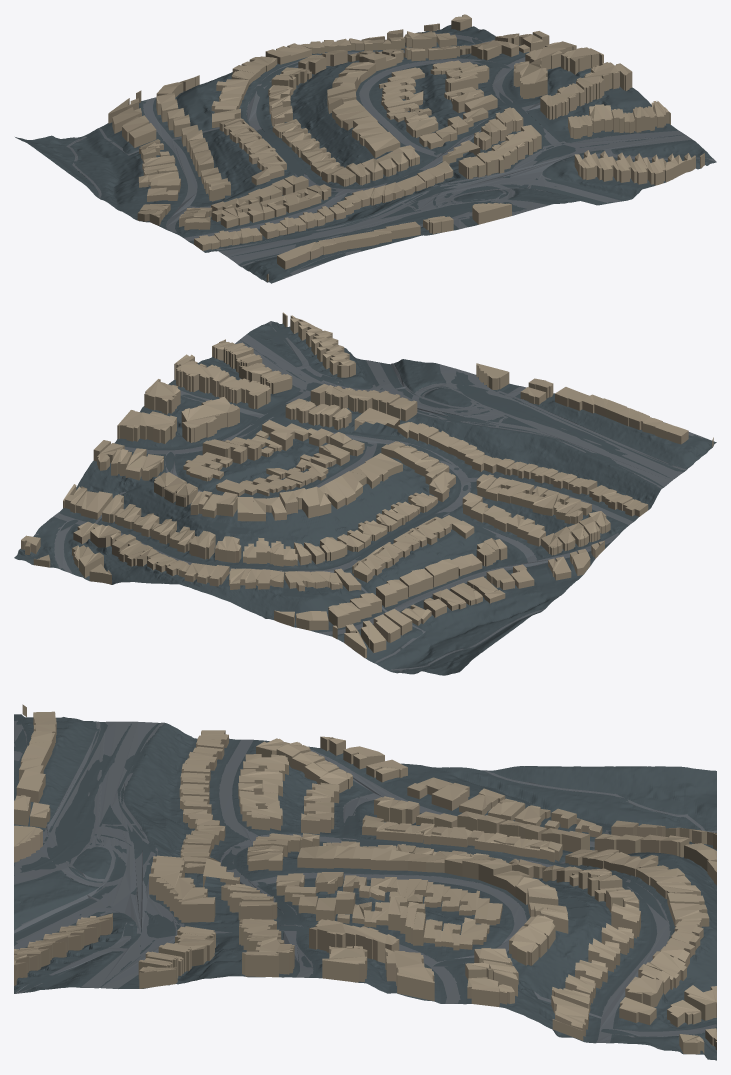
File: epsg26910-1429-10879.lod0.glb
The picture shows the model from 3 angles, top to bottom: view 1: azimuth 30°, elevation 25°; view 2: azimuth 150°, elevation 25°; view 3: azimuth 270°, elevation 25°; orthographic projection. The views are drawn at different scales.
Parts seen in each view (by area): view 1: epsg26910-1429-10879-lod0; view 2: epsg26910-1429-10879-lod0; view 3: epsg26910-1429-10879-lod0.
Boxes of the visible parts, box(x1,y1,x2,y2) form: epsg26910-1429-10879-lod0: box(15, 14, 716, 283); epsg26910-1429-10879-lod0: box(14, 312, 716, 675); epsg26910-1429-10879-lod0: box(14, 704, 716, 1060).
Bounding box in the file's own units: 384 × 81.72 × 384.
